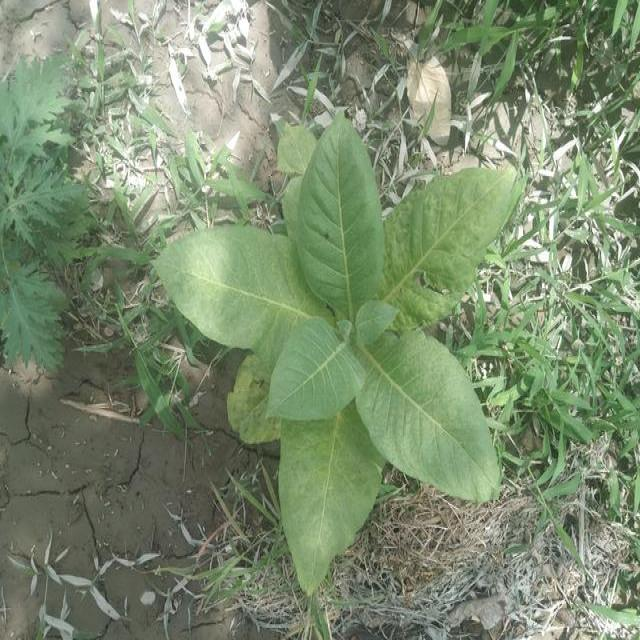crop: (156, 119, 516, 573), (159, 120, 160, 122)
